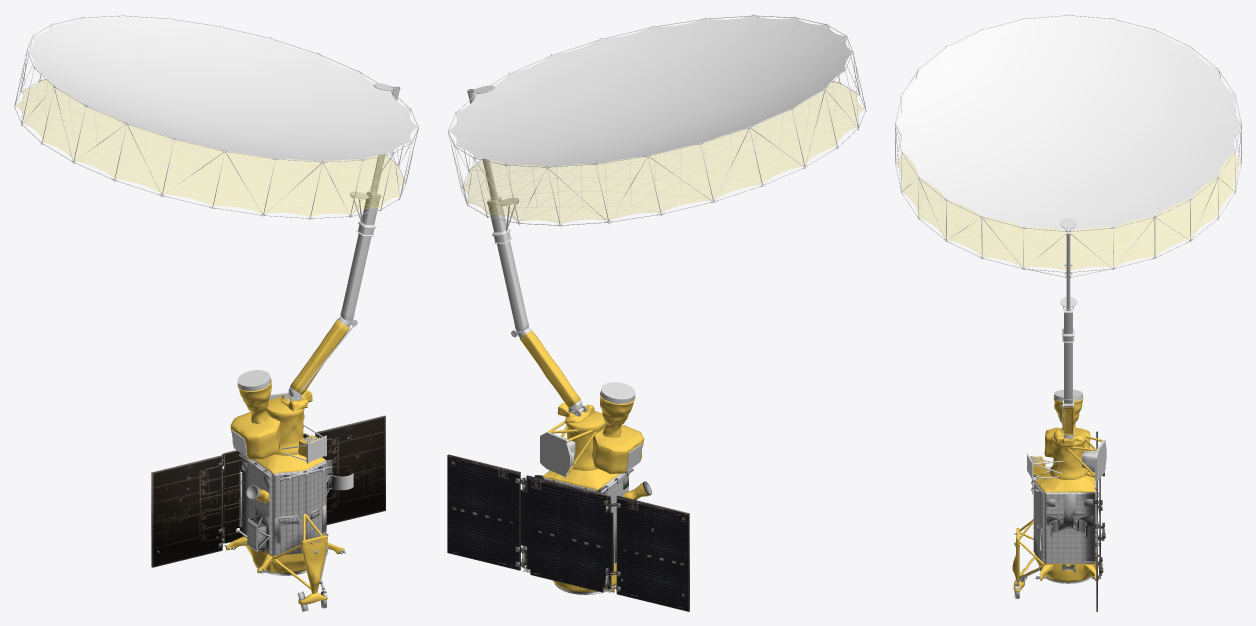
Rendered from smap.glb.
The picture shows the model from 3 angles, left to right: view 1: azimuth 30°, elevation 25°; view 2: azimuth 150°, elevation 25°; view 3: azimuth 270°, elevation 25°; orthographic projection. The views are drawn at different scales.
Parts seen in each view (by area): view 1: antenna_03, antenna_01, array, arm_etc, arm_etc.001, body.000; view 2: antenna_03, array.001, antenna_01, arm_etc.001, arm_etc, body.000, array; view 3: antenna_03, antenna_01, arm_etc.001, arm_etc, body.000, array.
Part boxes in pixels (<box>): antenna_03: <box>27,15,417,161</box>; antenna_01: <box>16,79,405,216</box>; array: <box>151,415,385,567</box>; arm_etc: <box>226,319,349,604</box>; arm_etc.001: <box>14,14,418,463</box>; body.000: <box>157,435,353,611</box>; antenna_03: <box>449,15,852,166</box>; array.001: <box>447,455,688,611</box>; antenna_01: <box>461,81,864,223</box>; arm_etc.001: <box>448,14,866,476</box>; arm_etc: <box>520,330,648,592</box>; body.000: <box>523,468,684,596</box>; array: <box>447,454,689,611</box>; antenna_03: <box>896,15,1240,230</box>; antenna_01: <box>896,153,1240,270</box>; arm_etc.001: <box>895,14,1241,480</box>; arm_etc: <box>1012,398,1102,591</box>; body.000: <box>1014,468,1104,598</box>; array: <box>1096,431,1105,611</box>.
Size of what is drawn, in the model's own units: 6.42 by 9.52 by 6.19.
Materials: 8 (7 with a texture image).
